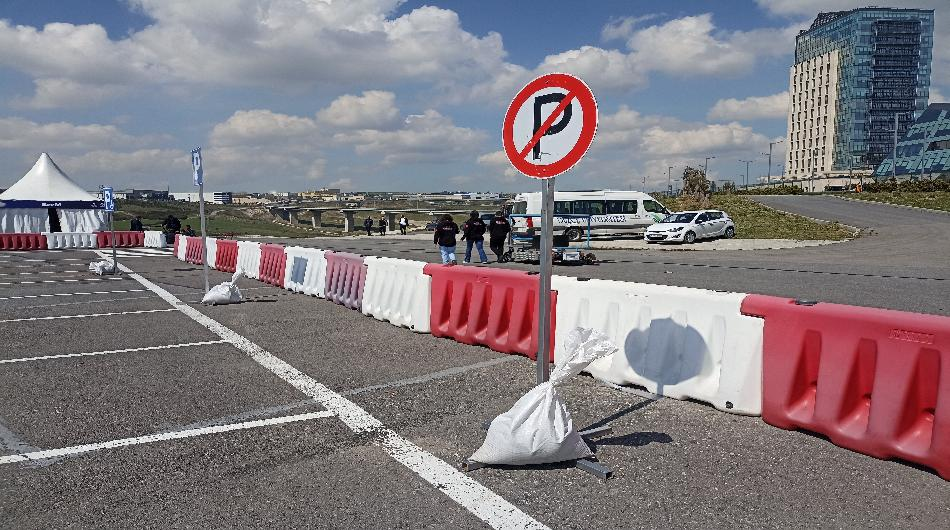park_yapilmaz_3: (497, 65, 602, 183)
